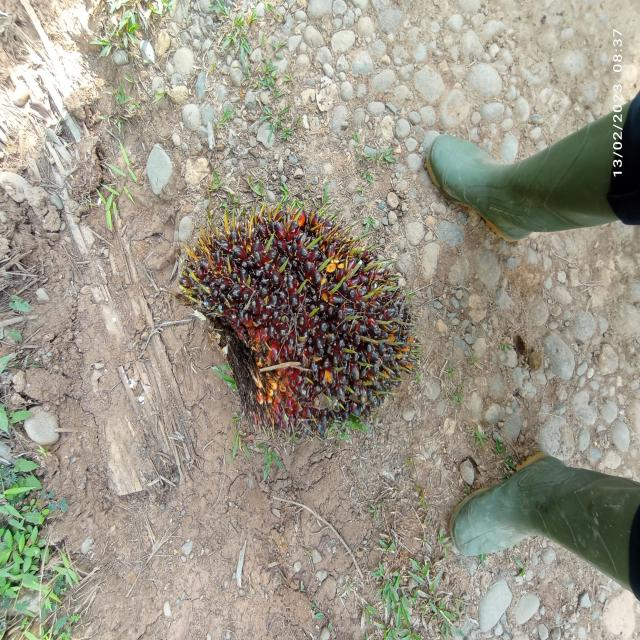fraksi 1: (167, 182, 429, 452)
